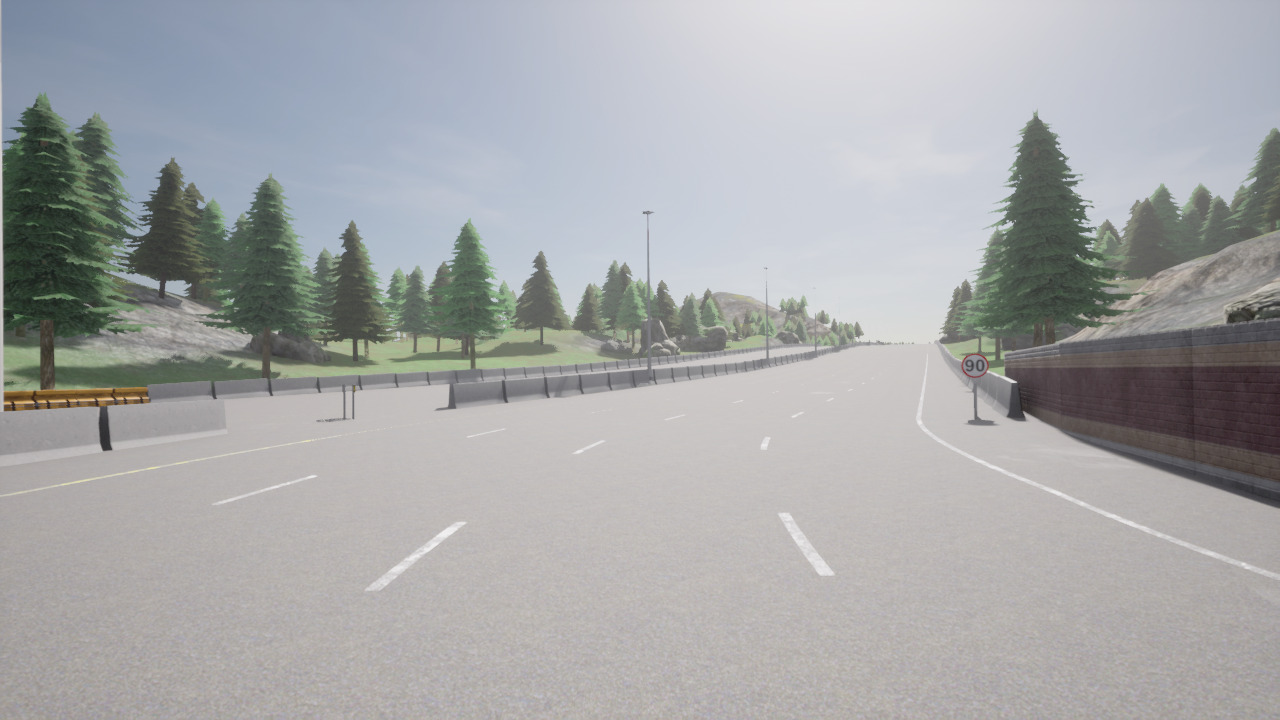sl90: (961, 352, 990, 379)
